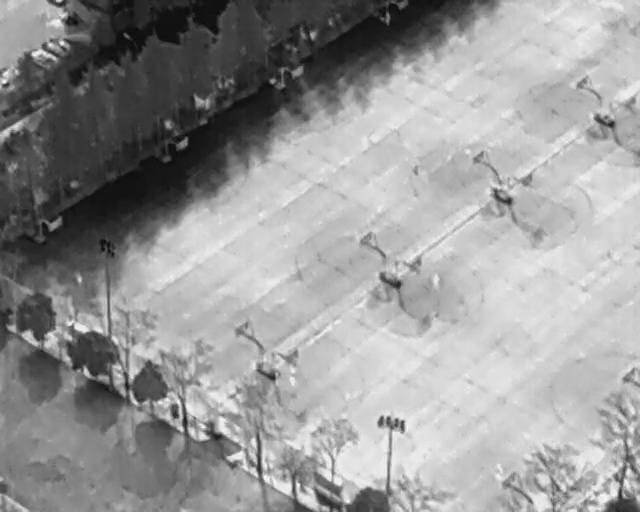Person: (70, 266, 83, 290), (288, 365, 297, 385), (432, 271, 440, 291)
